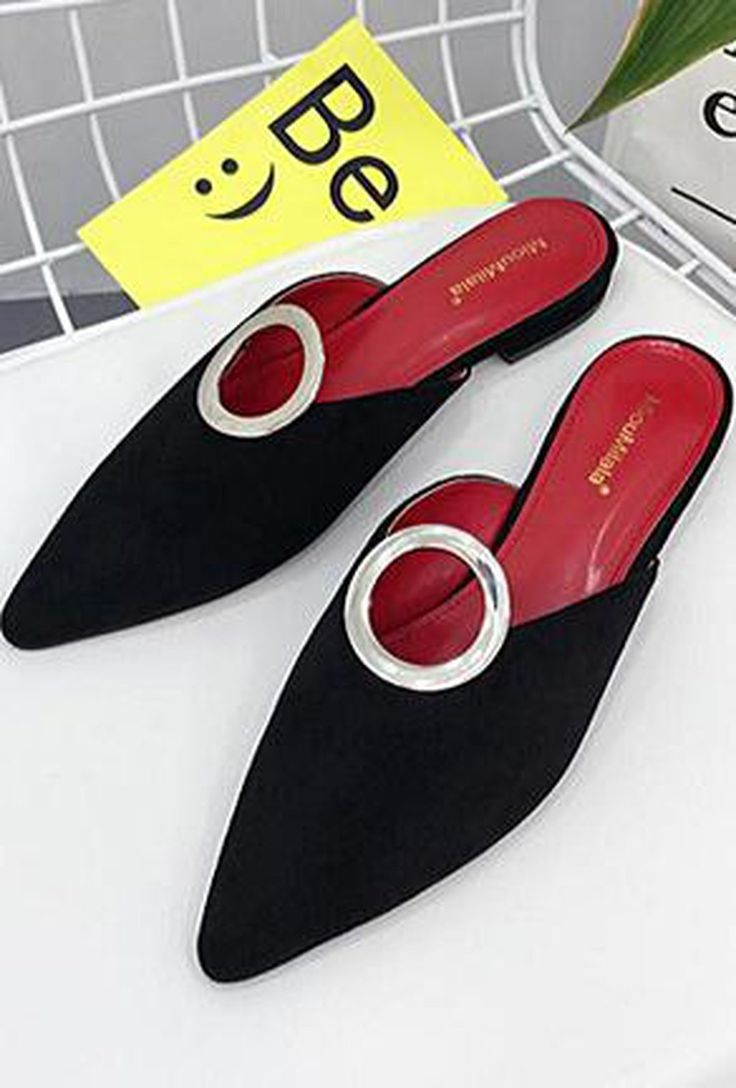gamuza: (2, 272, 662, 984)
